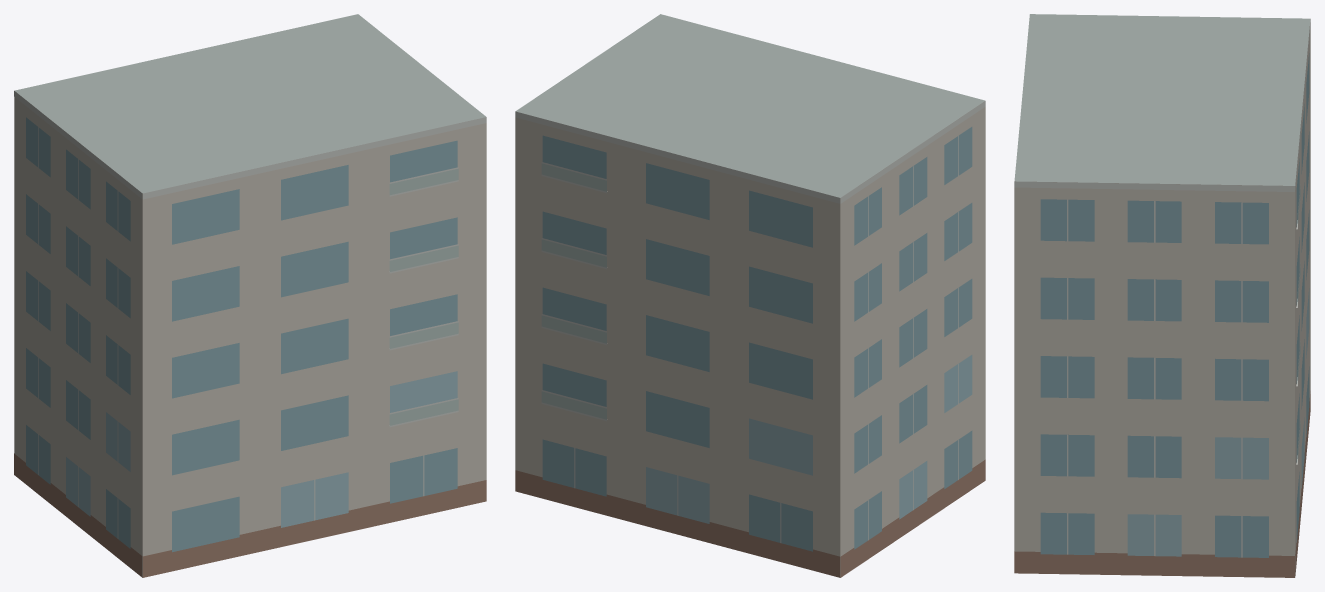
Rendered from survey-upis-32997803.glb.
3 renders of one model, left to right at view 1: azimuth 30°, elevation 25°; view 2: azimuth 150°, elevation 25°; view 3: azimuth 270°, elevation 25°, orthographic. The views are drawn at different scales.
Visible parts, largest first — view 1: survey-upis-32997803.tmp; view 2: survey-upis-32997803.tmp; view 3: survey-upis-32997803.tmp.
Part boxes in pixels (left/top/right/bottom): survey-upis-32997803.tmp: left=14, top=14, right=486, bottom=577; survey-upis-32997803.tmp: left=515, top=14, right=985, bottom=577; survey-upis-32997803.tmp: left=1014, top=14, right=1310, bottom=577.
Size of the model in its own units: 14.69 by 15.6 by 10.69.
